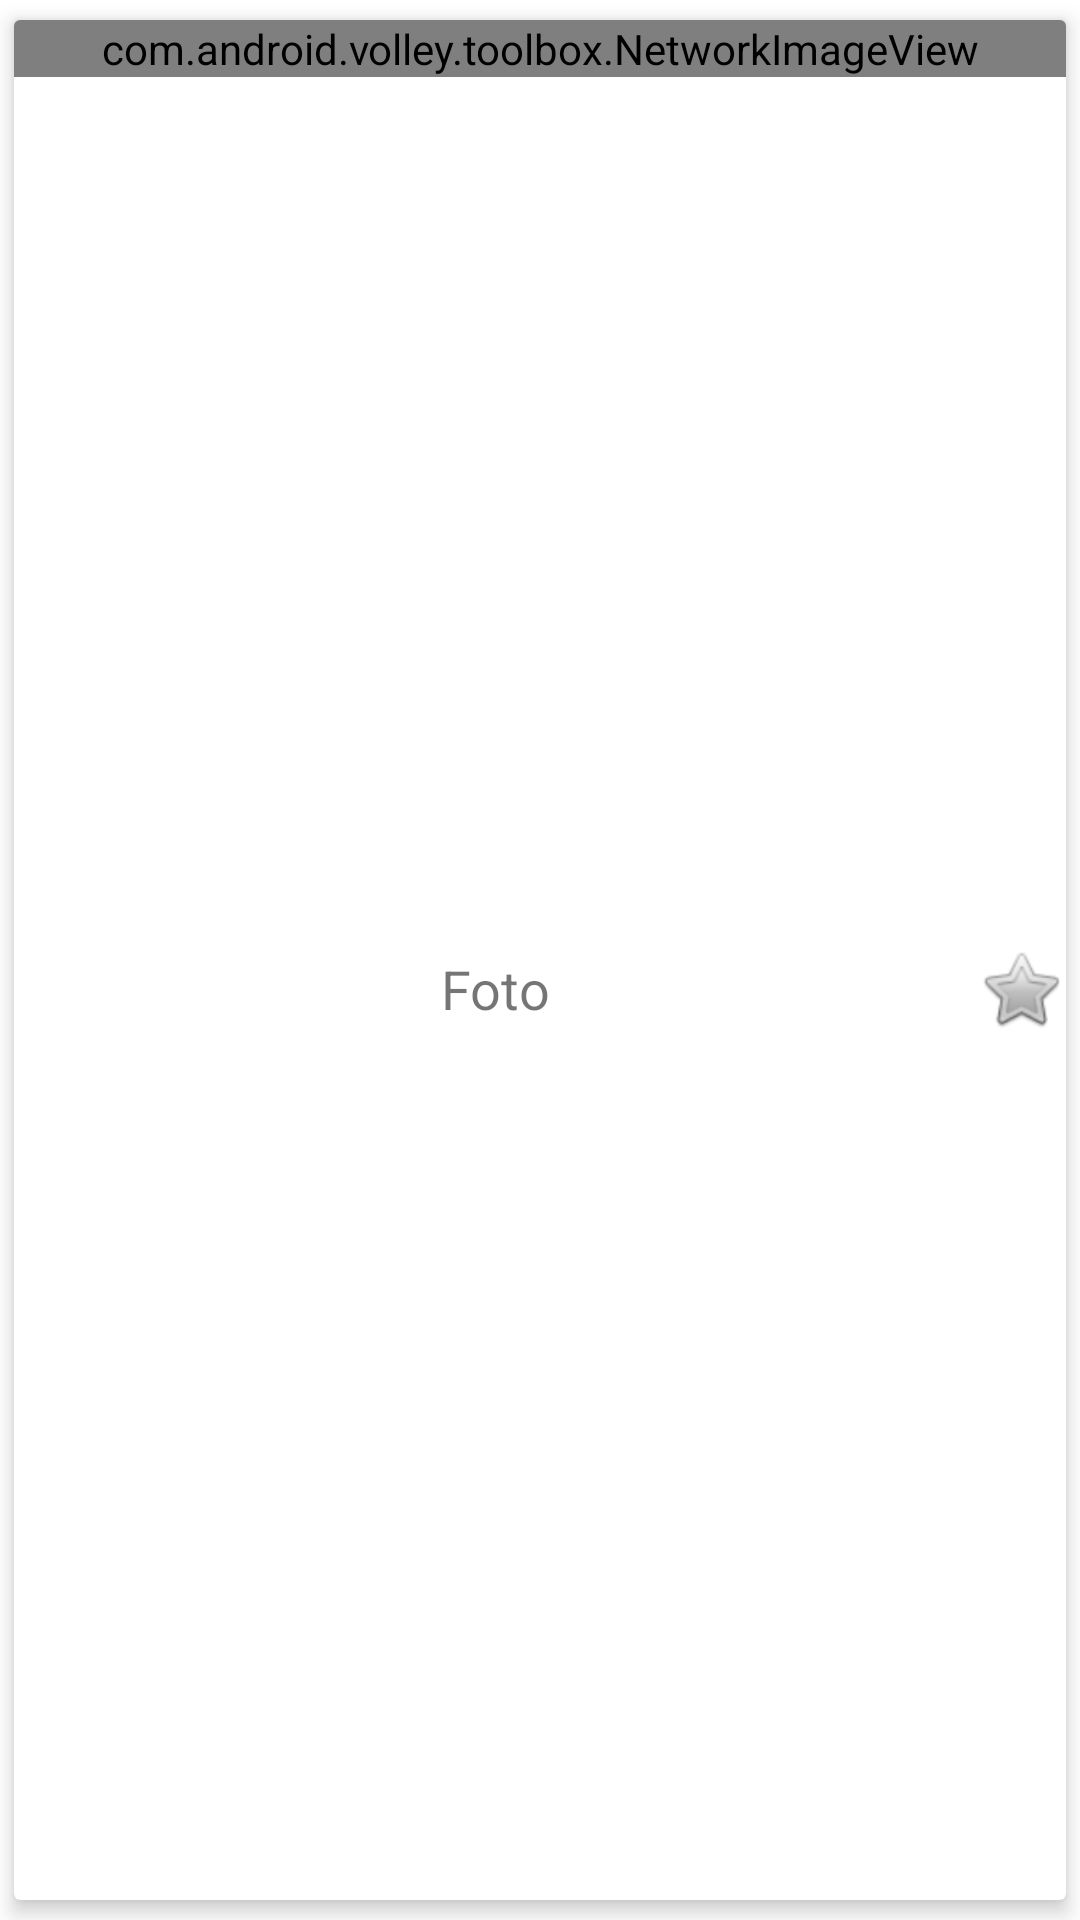

Point at icon controls on the screen. Image size 1080×1920, points as [x,y].
star off: [1021,989]
